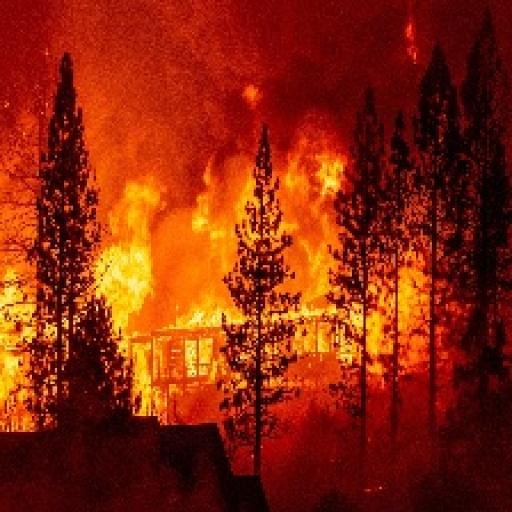fire and smoke: (0, 0, 414, 416), (96, 128, 258, 421), (272, 123, 345, 377), (0, 263, 34, 430), (398, 258, 425, 334), (398, 261, 425, 334)
